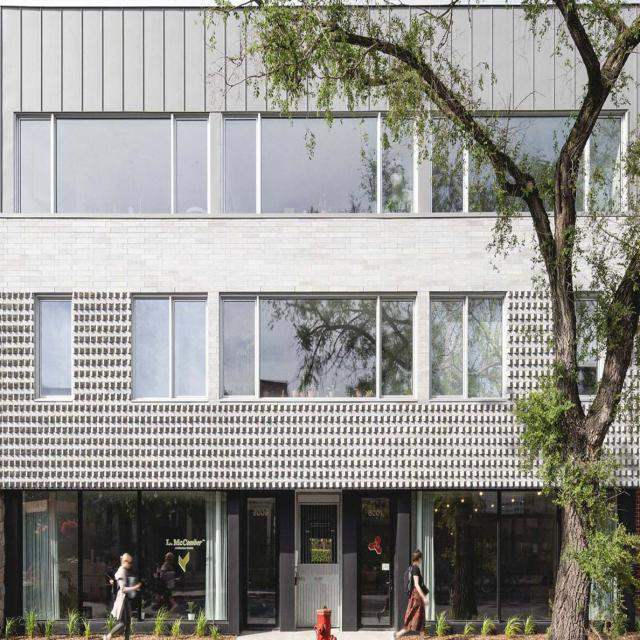door: (294, 491, 344, 632), (244, 491, 280, 629), (359, 493, 395, 628)
plant: (199, 0, 639, 639)
wall: (0, 0, 639, 636)
windows: (21, 491, 229, 620), (15, 114, 212, 215), (219, 296, 415, 397), (429, 110, 618, 210), (224, 114, 413, 214), (431, 491, 556, 621), (131, 295, 208, 399), (431, 296, 505, 400), (38, 296, 72, 402), (580, 296, 598, 393)
